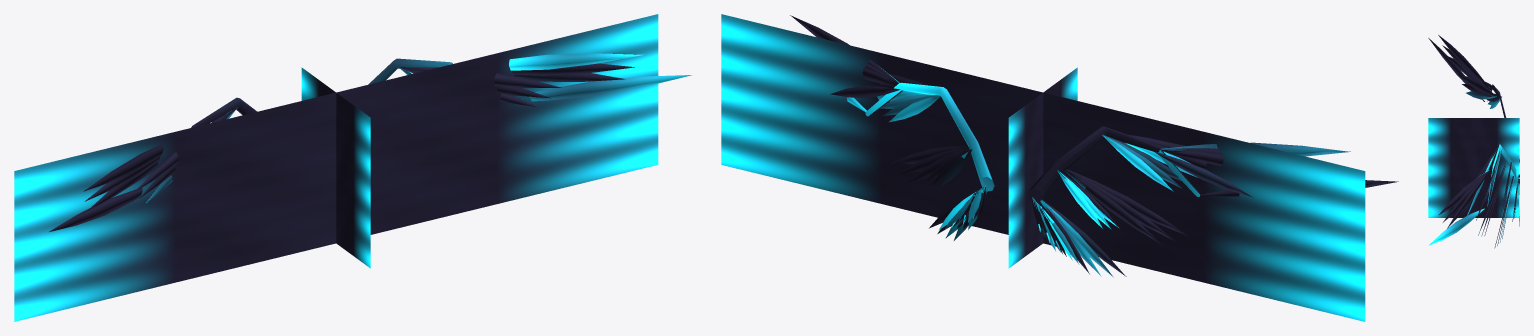
File: aion2_ethereal_wings.glb
3 views of the same model, side by side, from view 1: azimuth 30°, elevation 25°; view 2: azimuth 150°, elevation 25°; view 3: azimuth 270°, elevation 25° (orthographic). The views are drawn at different scales.
Visible parts, largest first — view 1: aion2_ethereal_wings_Impostor, aion2_ethereal_wings_LOD0; view 2: aion2_ethereal_wings_Impostor, aion2_ethereal_wings_LOD0; view 3: aion2_ethereal_wings_Impostor, aion2_ethereal_wings_LOD0.
Boxes of the visible parts, <box> form: aion2_ethereal_wings_Impostor: <box>14,14,658,321</box>; aion2_ethereal_wings_LOD0: <box>49,53,691,231</box>; aion2_ethereal_wings_Impostor: <box>721,14,1365,321</box>; aion2_ethereal_wings_LOD0: <box>790,15,1398,277</box>; aion2_ethereal_wings_Impostor: <box>1428,118,1519,217</box>; aion2_ethereal_wings_LOD0: <box>1428,35,1519,248</box>.
Size of what is drawn, in the model's own units: 6.83 by 1.53 by 1.27.
Materials: 1 (1 with a texture image).
